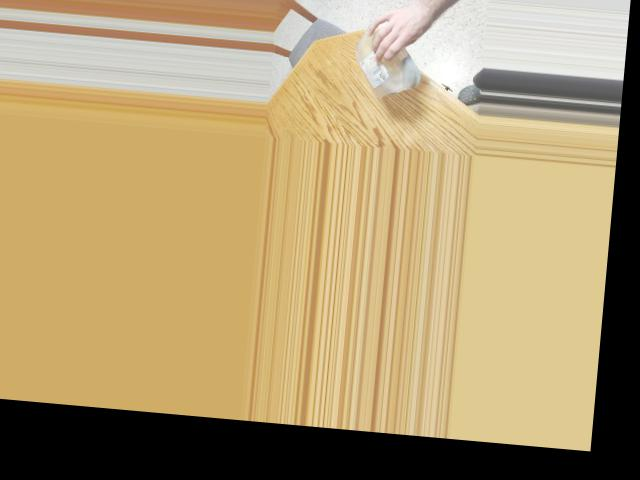cheese: (349, 13, 421, 98)
